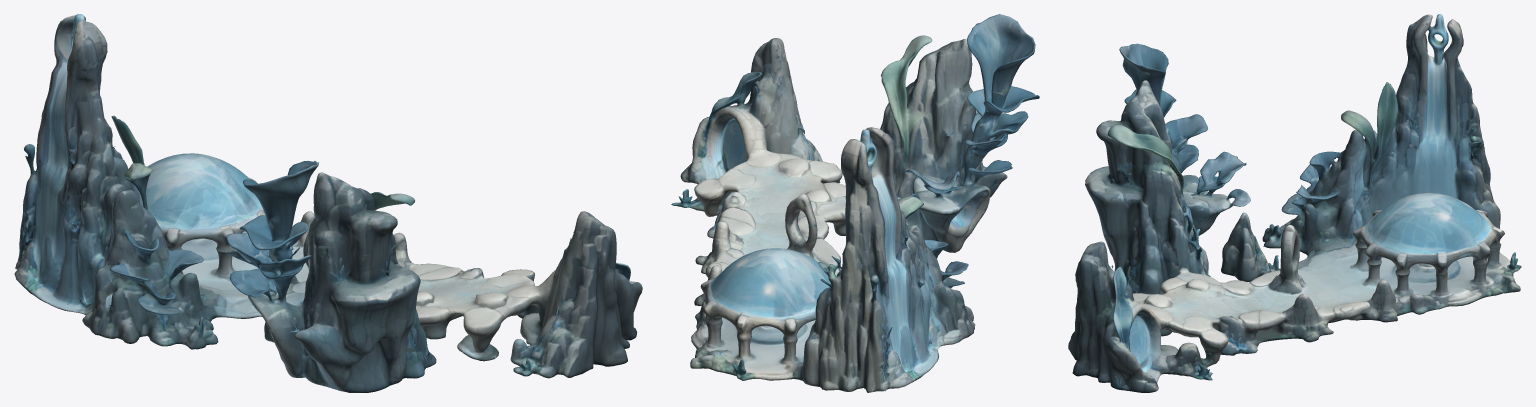
The model's file is tide.glb.
The picture shows the model from 3 angles, left to right: view 1: azimuth 30°, elevation 25°; view 2: azimuth 150°, elevation 25°; view 3: azimuth 270°, elevation 25°; orthographic projection. The views are drawn at different scales.
Visible parts, largest first — view 1: tripo_node_13c89a58; view 2: tripo_node_13c89a58; view 3: tripo_node_13c89a58.
Boxes of the visible parts, x1,y1,x2,y2 form: tripo_node_13c89a58: [14, 14, 642, 392]; tripo_node_13c89a58: [671, 14, 1039, 392]; tripo_node_13c89a58: [1068, 14, 1521, 392].
Bounding box in the file's own units: 0.8892 × 0.5359 × 0.9709.
1 material, 1 textured.
